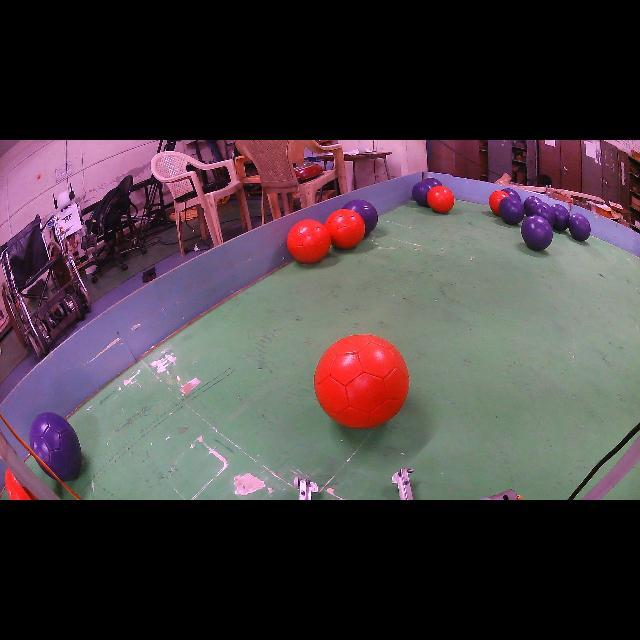P: (30, 411, 81, 481), (344, 200, 378, 233), (521, 215, 552, 251), (412, 178, 442, 207), (499, 196, 525, 225), (530, 202, 556, 228), (412, 179, 435, 207), (569, 214, 591, 241), (551, 204, 570, 231), (524, 196, 541, 216), (502, 188, 521, 201)
R: (314, 335, 410, 428), (286, 220, 331, 264), (325, 209, 365, 249), (428, 185, 455, 214), (489, 190, 509, 215)
